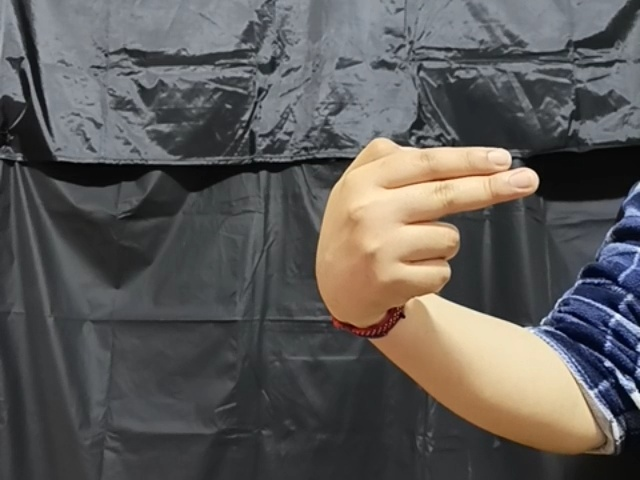H: (311, 135, 542, 313)
